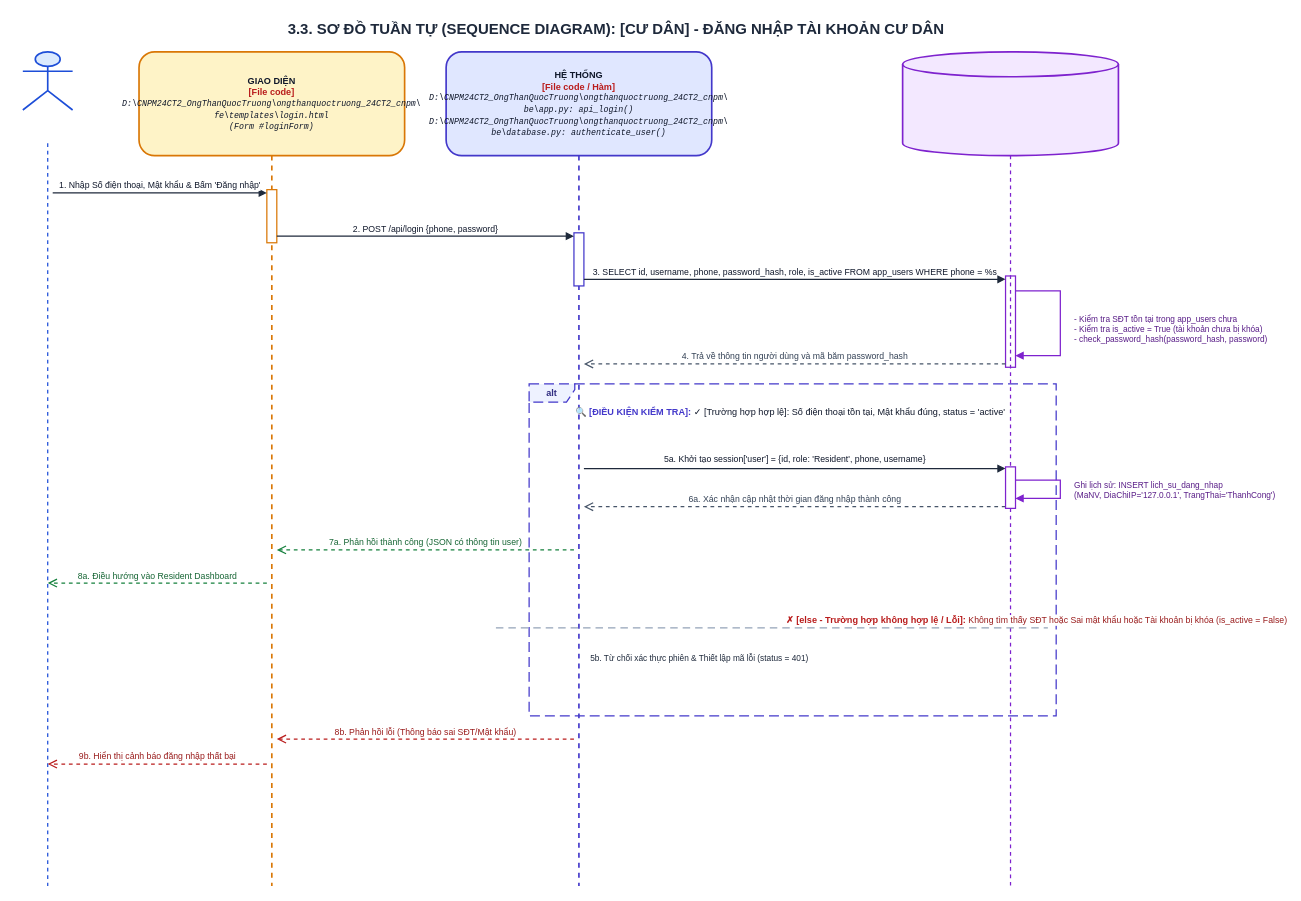
This 1301x901 diagram has some shape labels left out. The shapes that lost their labels are listed below. From the top down, each one's centre as x and y in pixels, then its label:
(47,80): TÁC NHÂN Cư Dân (Resident)
(1010,103): CƠ SỞ DỮ LIỆU [db / Bảng] HTTT_QuanLyBaiXe_AI / app_users, cu_dan
